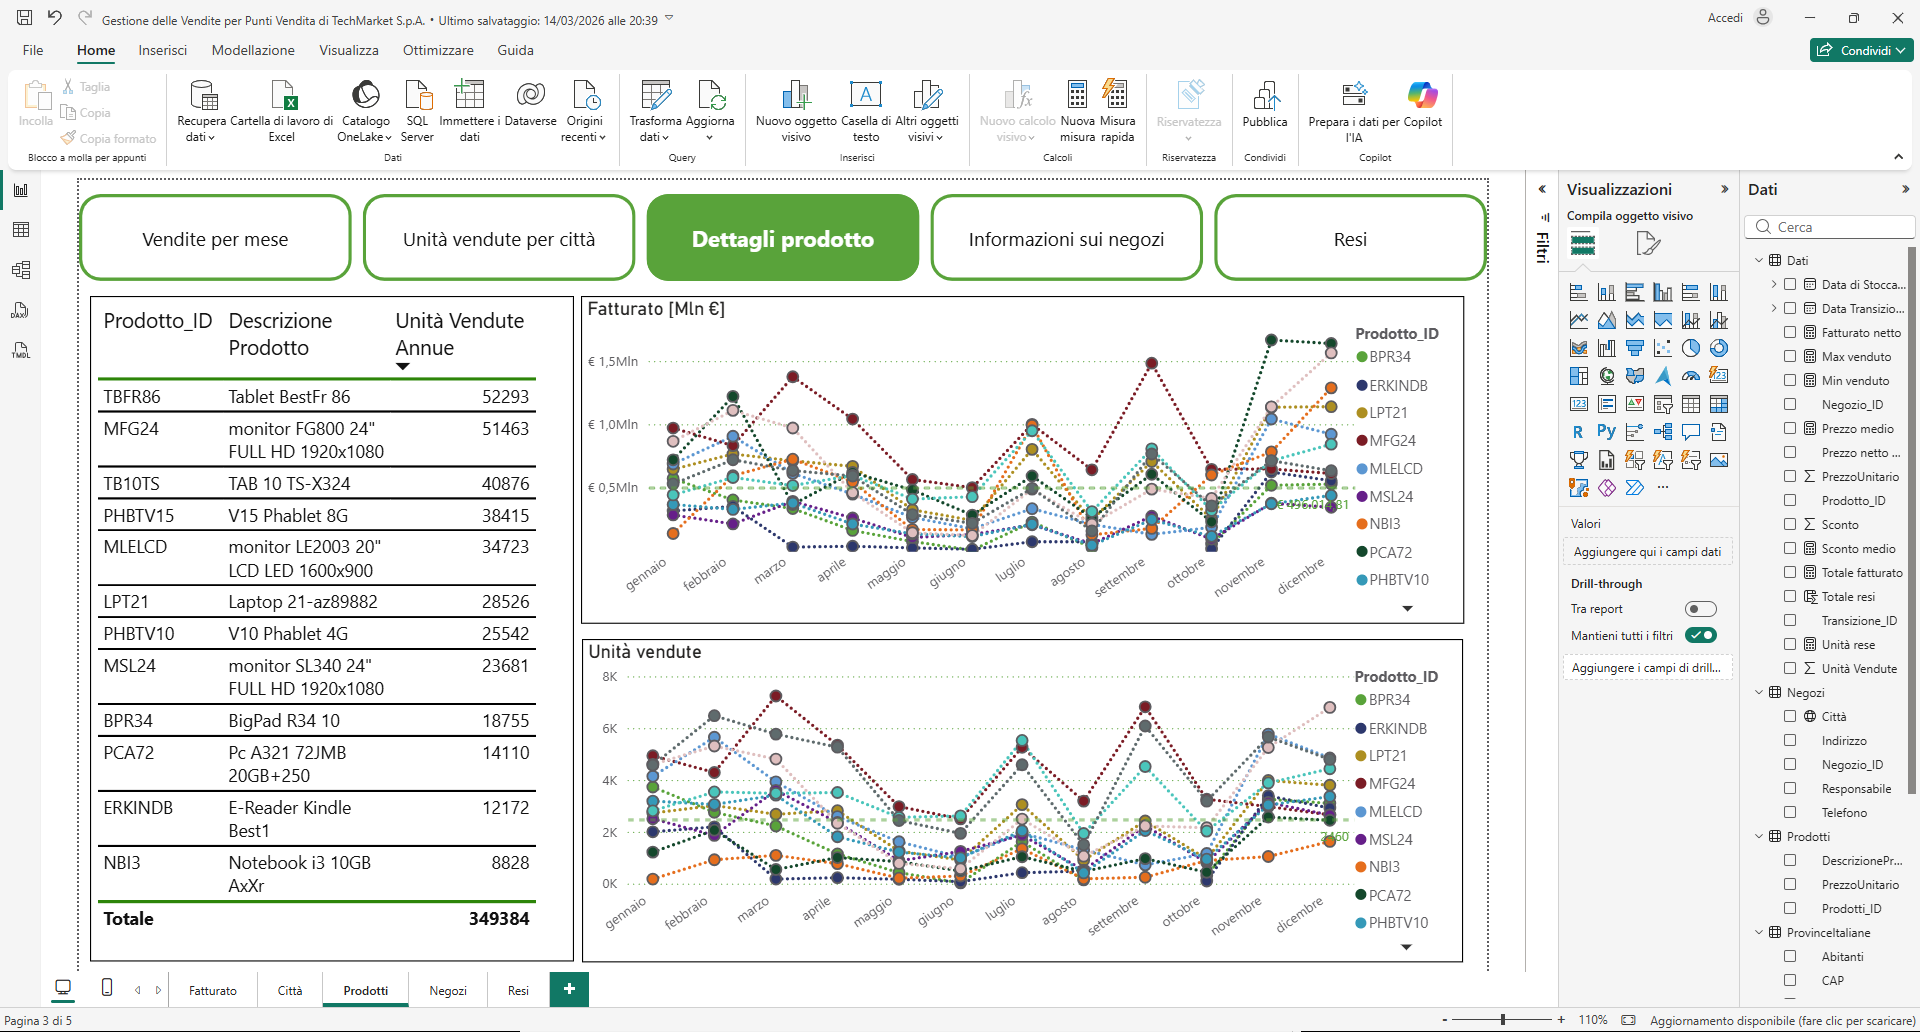

The dashboard page shown, as its layout file describes it:
{"tool":"powerbi","page":{"name":"Prodotti","canvas":[1280,720],"ordinal":2},"visuals":[{"type":"tableEx","fields":{"Values":["Dati.Prodotto_ID","Prodotti.DescrizioneProdotto","Sum(Dati.Unità Vendute)"]},"box":[9.7,105.7,439.7,605.2],"z":1000},{"type":"lineChart","title":"Fatturato [Mln €]","fields":{"Category":["Dati.Data Transizione.Variazione.Gerarchia data.Mese"],"Y":["Dati.Totale fatturato"],"Series":["Dati.Prodotto_ID"]},"box":[456.3,105.7,802.8,297.7],"z":4000},{"type":"lineChart","title":"Unità vendute","fields":{"Series":["Dati.Prodotto_ID"],"Category":["Dati.Data Transizione.Variazione.Gerarchia data.Mese"],"Y":["Sum(Dati.Unità Vendute)"]},"box":[457.5,417.5,801.2,293.8],"z":5000},{"type":"bookmarkNavigator","box":[0,12.5,1280,79.3],"z":6001}]}

Visuals, with their boxes on the page's 1280x720 design canvas (x1, y1, x2, y2). These are canvas units, not pixel positions in the 1920x1032 screenshot, which may show the page scaled, cropped or inside an application window:
tableEx - Dati.Prodotto_ID x Prodotti.DescrizioneProdotto: [10,106,449,711]
"Fatturato [Mln €]" lineChart: [456,106,1259,403]
"Unità vendute" lineChart: [458,418,1259,711]
bookmarkNavigator: [0,12,1280,92]
